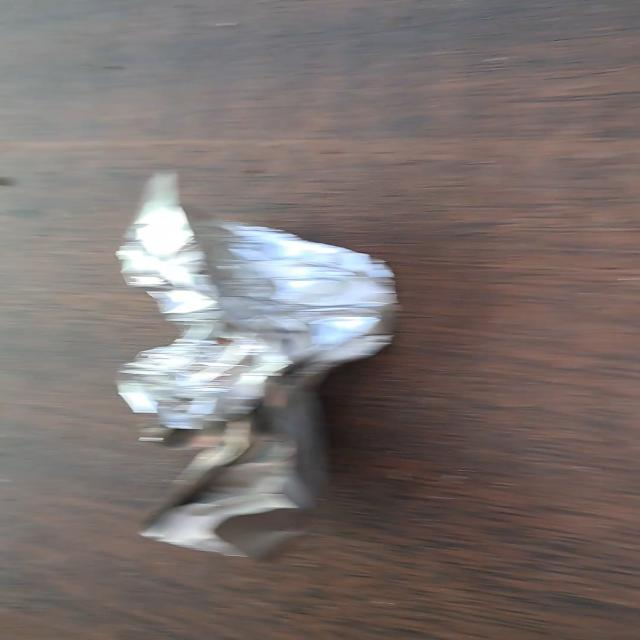Anorganik: (121, 170, 404, 562)
